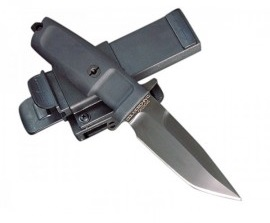knife: (121, 90, 245, 203)
